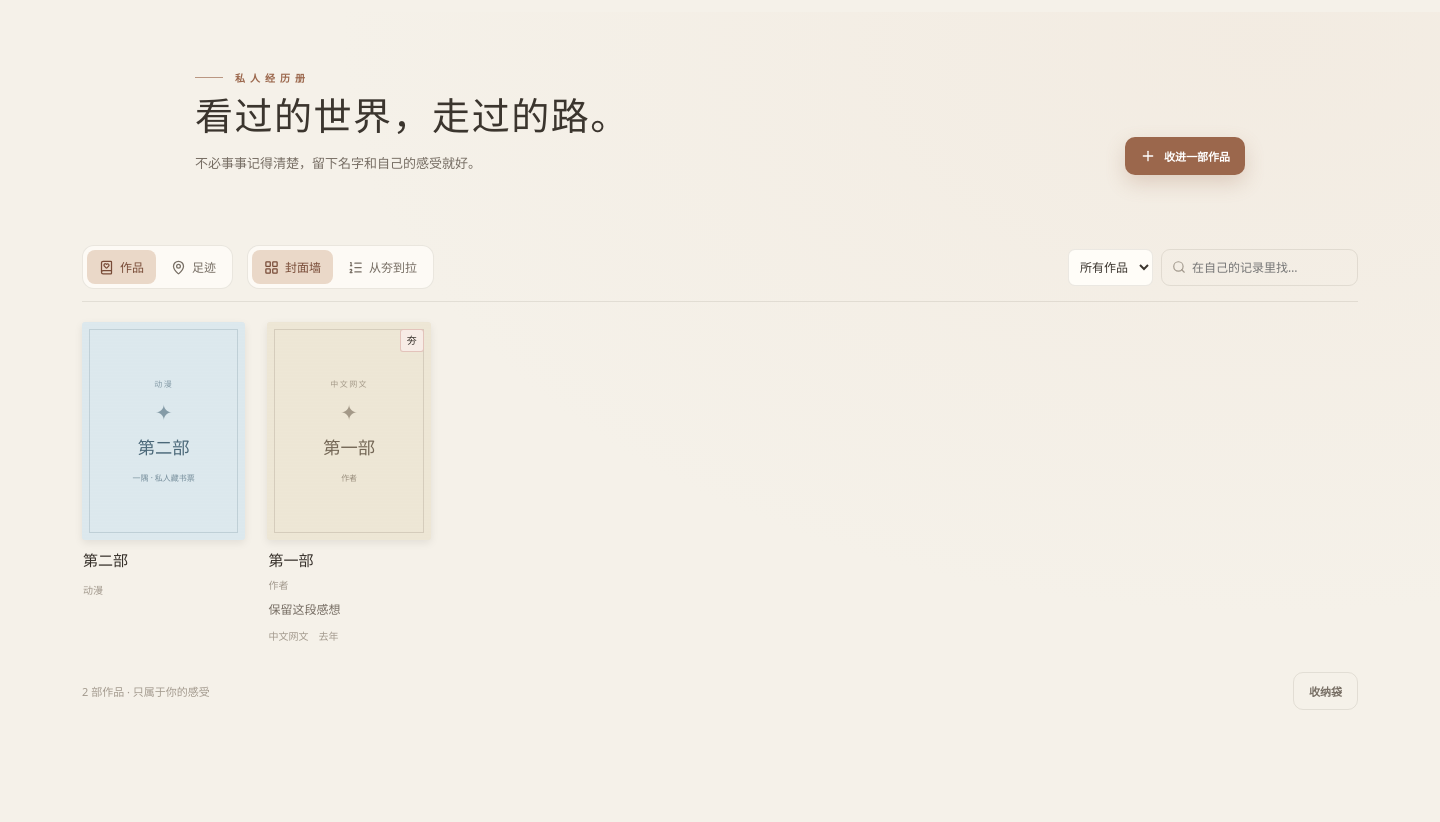
Test case: experience paper cards and personal tier board › filters work categories directly and preserves the selection, personal notes and ranks after editing
Step 1. Select "中文网文" in the dropdown named "筛选作品类别" → point(1110, 267), box [1068,249,1153,286]
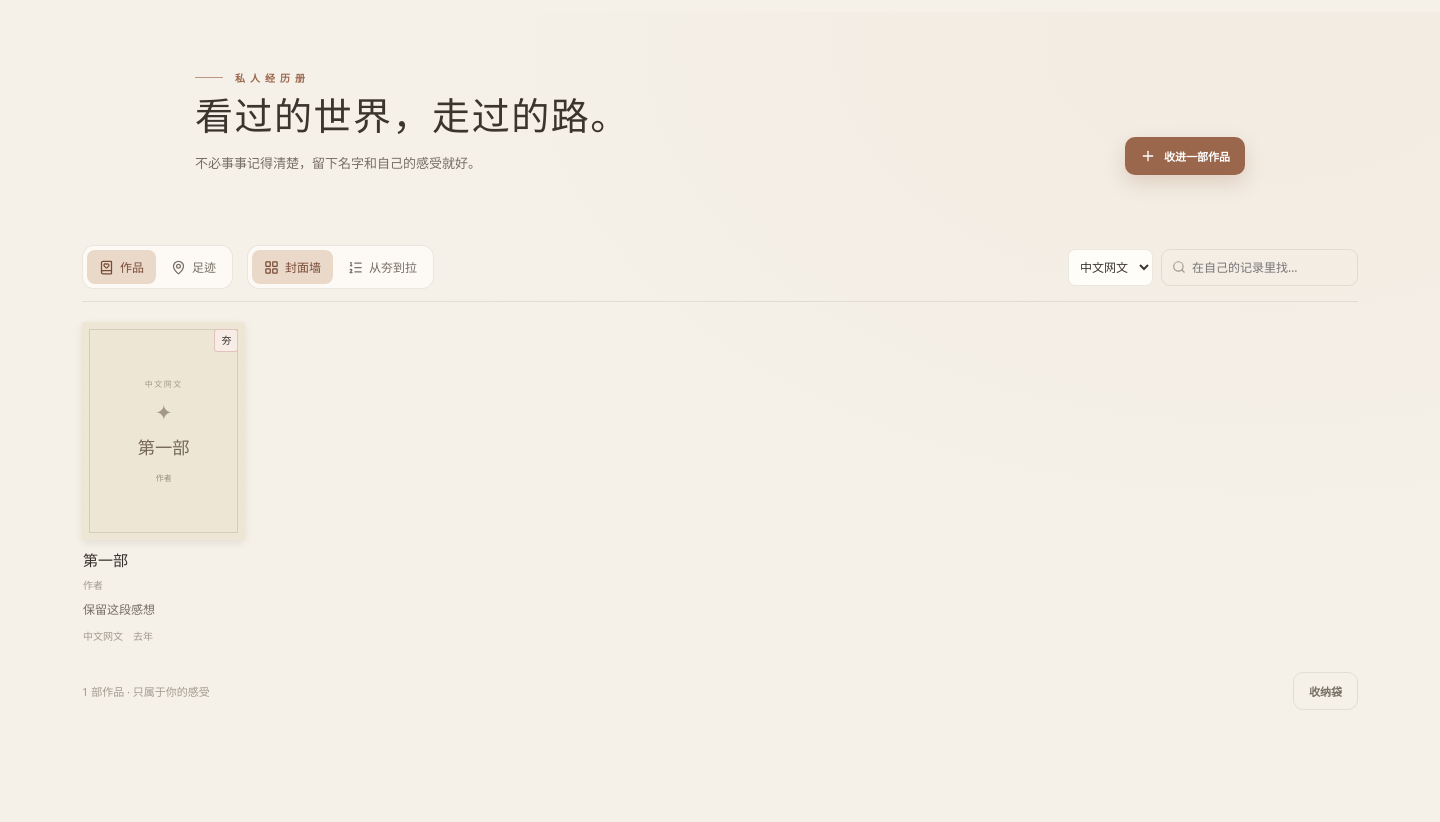
Check: the button "查看第二部" is gone
Step 2. Click the button with aria-label "查看第一部" → point(164, 483), box [82,322,245,644]
(page scrolled)
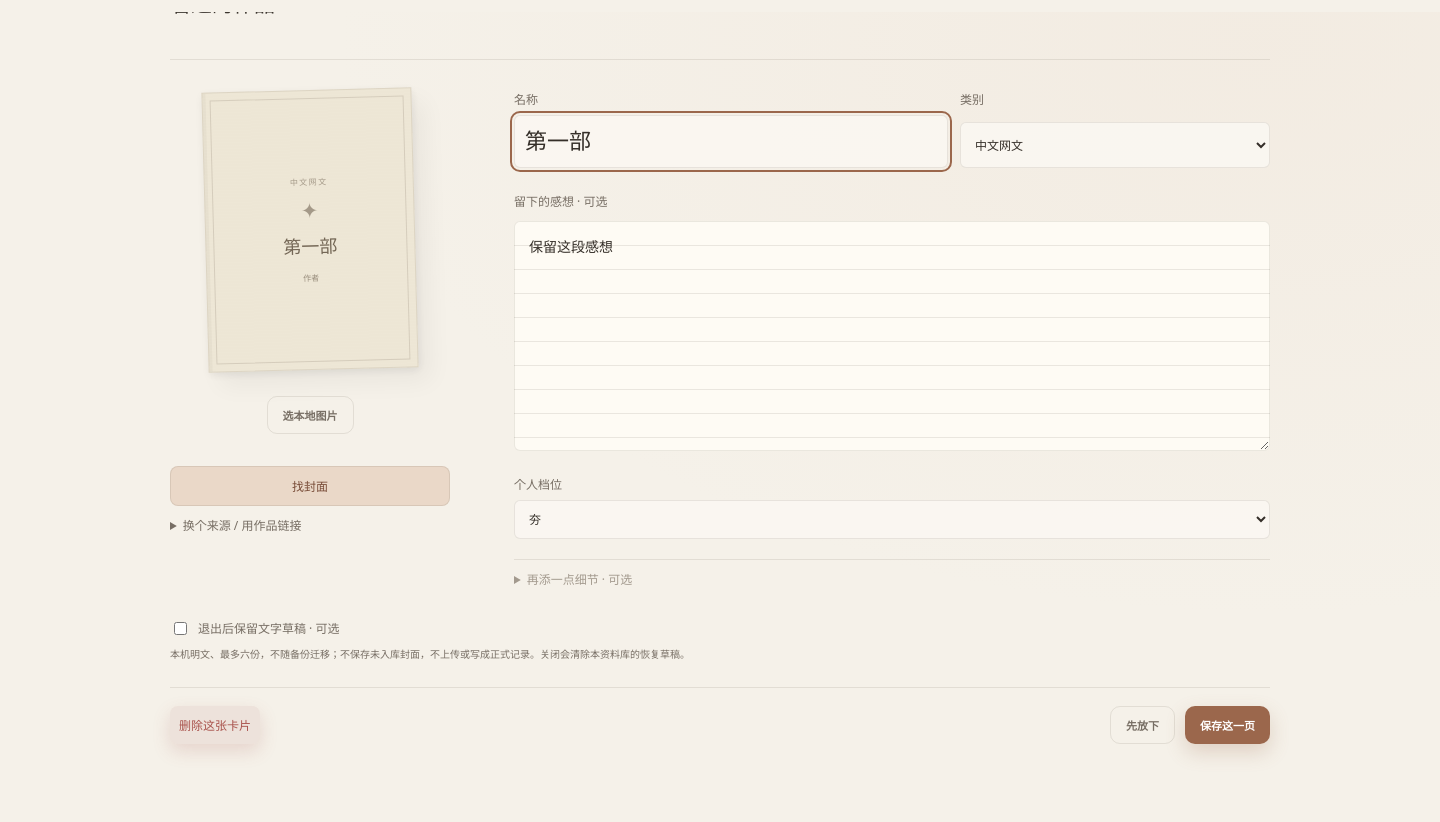
Step 3. Click the button "保存这一页" → point(1228, 725), box [1185,706,1270,744]
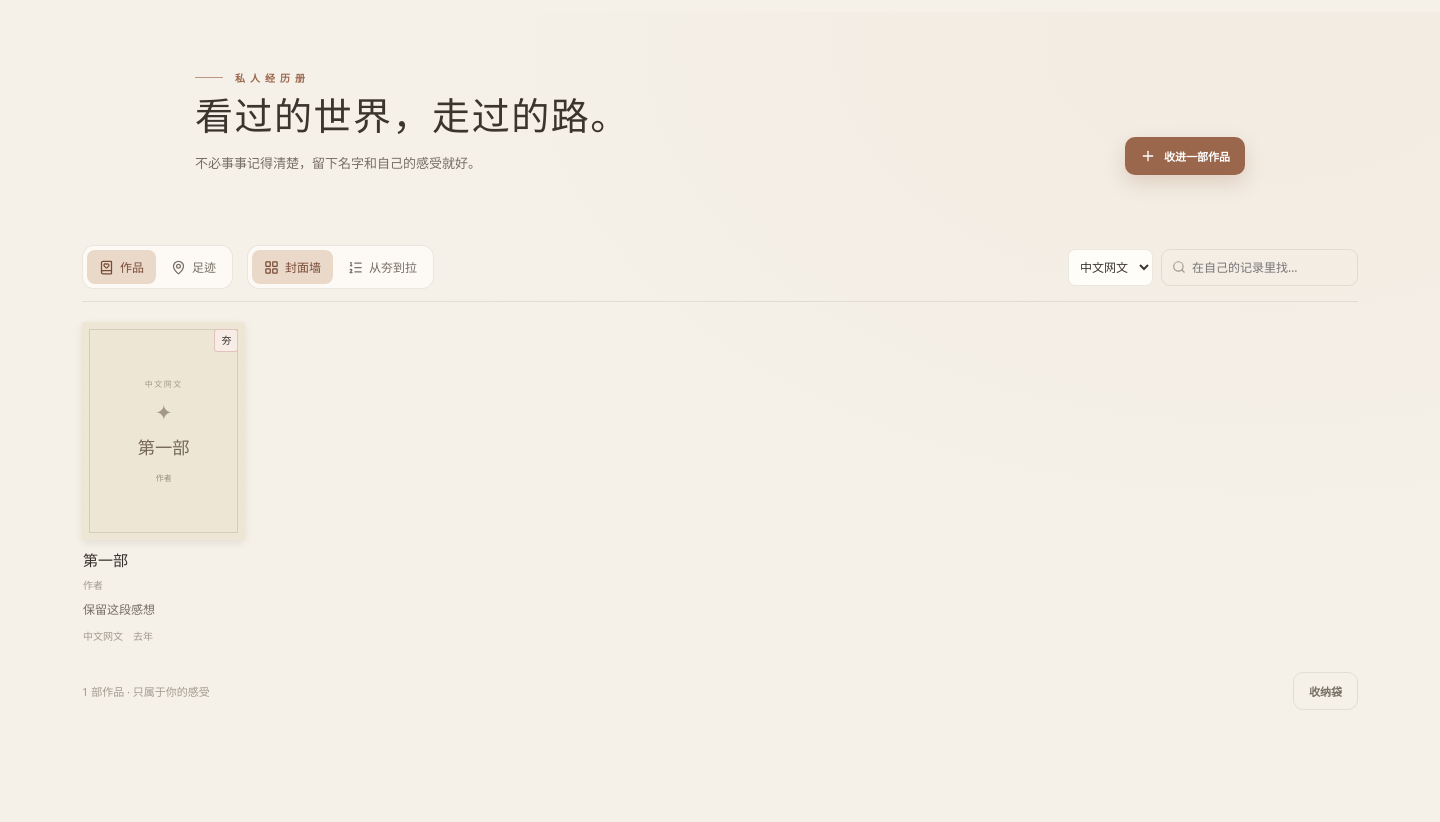
Check: the dropdown named "筛选作品类别" shows "中文网文"
Step 4. Select "所有作品" in the dropdown named "筛选作品类别" → point(1110, 267), box [1068,249,1153,286]
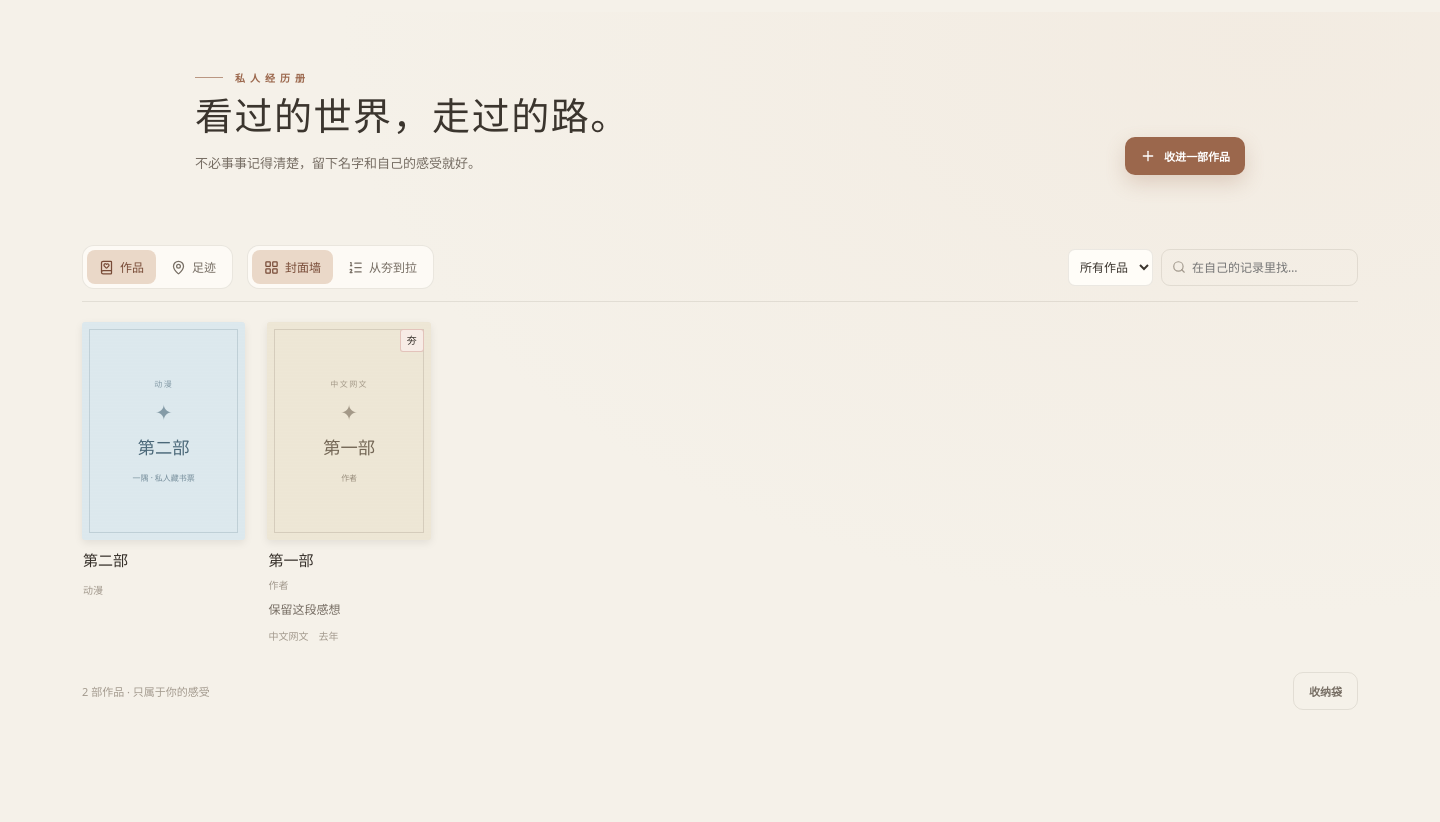
Check: the button with aria-label "查看第二部" is shown, box [82,322,245,598]
